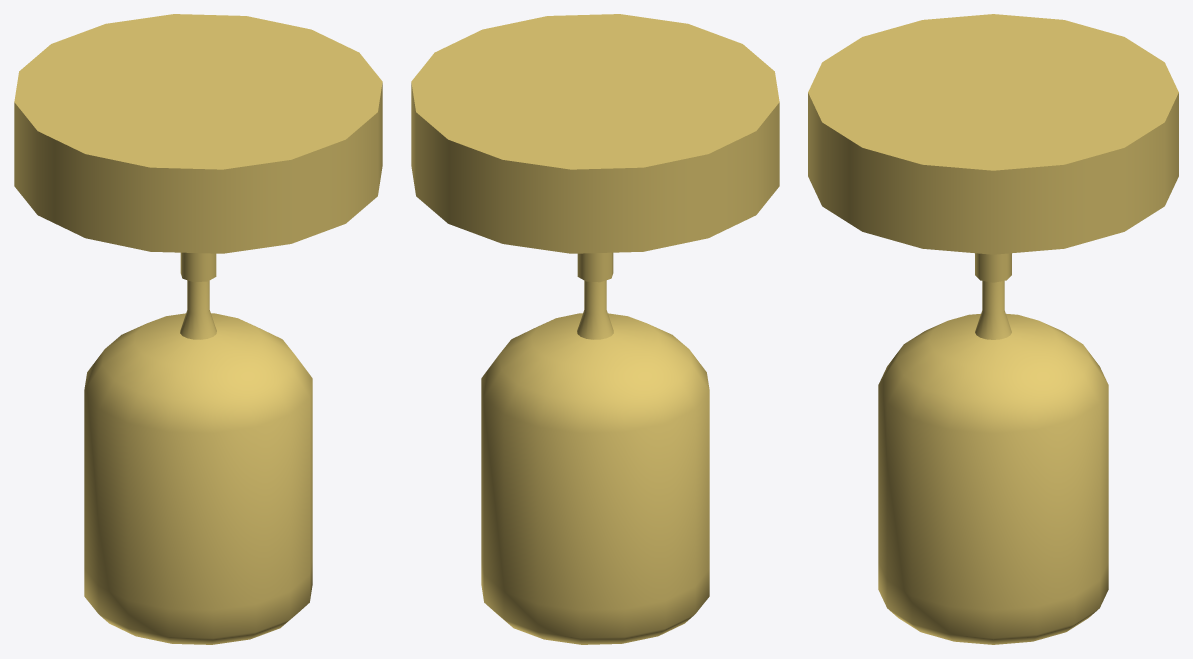
Rendered from spotlight.fbx.
The picture shows the model from 3 angles, left to right: view 1: azimuth 30°, elevation 25°; view 2: azimuth 150°, elevation 25°; view 3: azimuth 270°, elevation 25°; orthographic projection.
Parts seen in each view (by area): view 1: spotlight, spotlight-head, spotlight-head-light; view 2: spotlight, spotlight-head, spotlight-head-light; view 3: spotlight, spotlight-head, spotlight-head-light.
Part boxes in pixels (box(x1,y1,x2,y2)): spotlight: box(14, 14, 382, 282); spotlight-head: box(84, 280, 312, 609); spotlight-head-light: box(84, 558, 312, 644); spotlight: box(411, 14, 779, 282); spotlight-head: box(481, 280, 709, 609); spotlight-head-light: box(481, 558, 709, 644); spotlight: box(808, 14, 1178, 282); spotlight-head: box(878, 281, 1108, 610); spotlight-head-light: box(878, 562, 1108, 644).
Size of the model in its own units: 0.2 by 0.3029 by 0.2.
